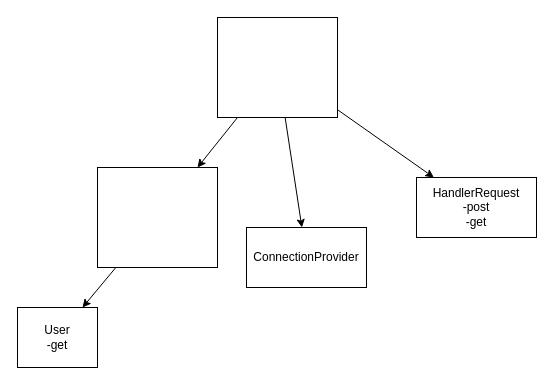
Image size: 554x385. Some labels were removed from this diagram. The box of each missing label's shape, as (x1, y1, x2, y2) in pixels:
UserController -addUser -showUser -handlerRequest: (216, 16, 338, 118)
UserTable - saveUserToDatabase -findUserToDatabase: (96, 166, 218, 268)
